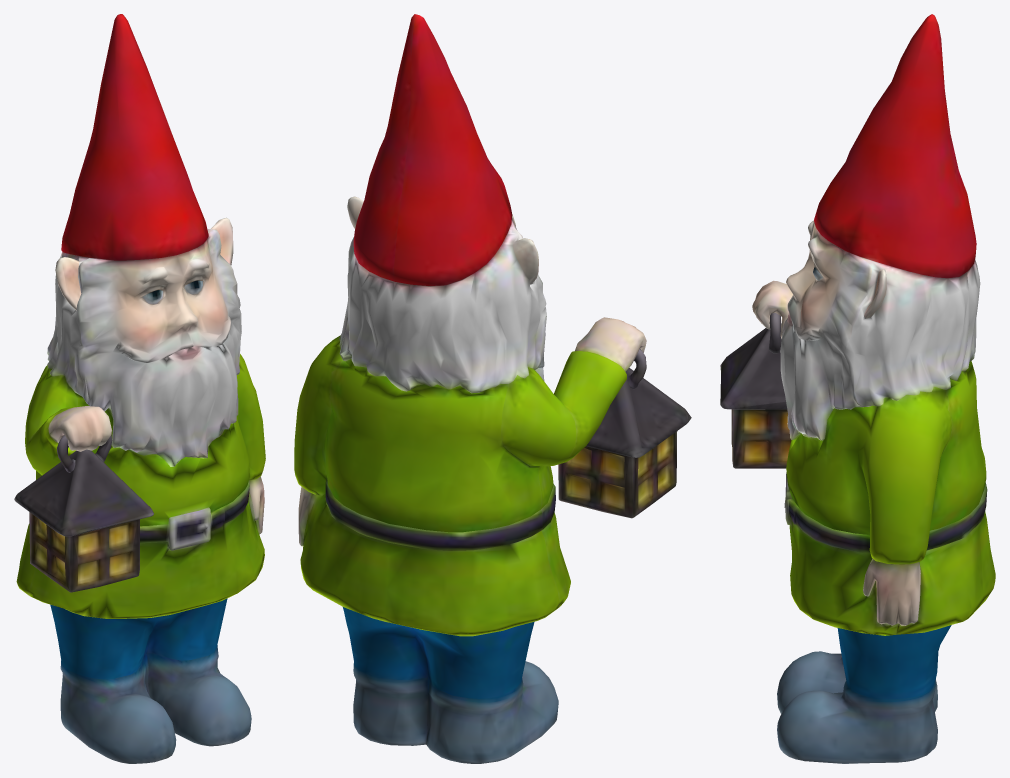
The model's file is th_zwerg.glb.
3 renders of one model, left to right at view 1: azimuth 30°, elevation 25°; view 2: azimuth 150°, elevation 25°; view 3: azimuth 270°, elevation 25°, orthographic. The views are drawn at different scales.
Parts seen in each view (by area): view 1: garden_gnome; view 2: garden_gnome; view 3: garden_gnome.
Boxes of the visible parts, left/top/right/bottom form: garden_gnome: left=14, top=14, right=265, bottom=763; garden_gnome: left=294, top=14, right=691, bottom=763; garden_gnome: left=720, top=14, right=995, bottom=763.
Size of the model in its own units: 0.2575 by 0.5989 by 0.2097.
Materials: 1 (1 with a texture image).
